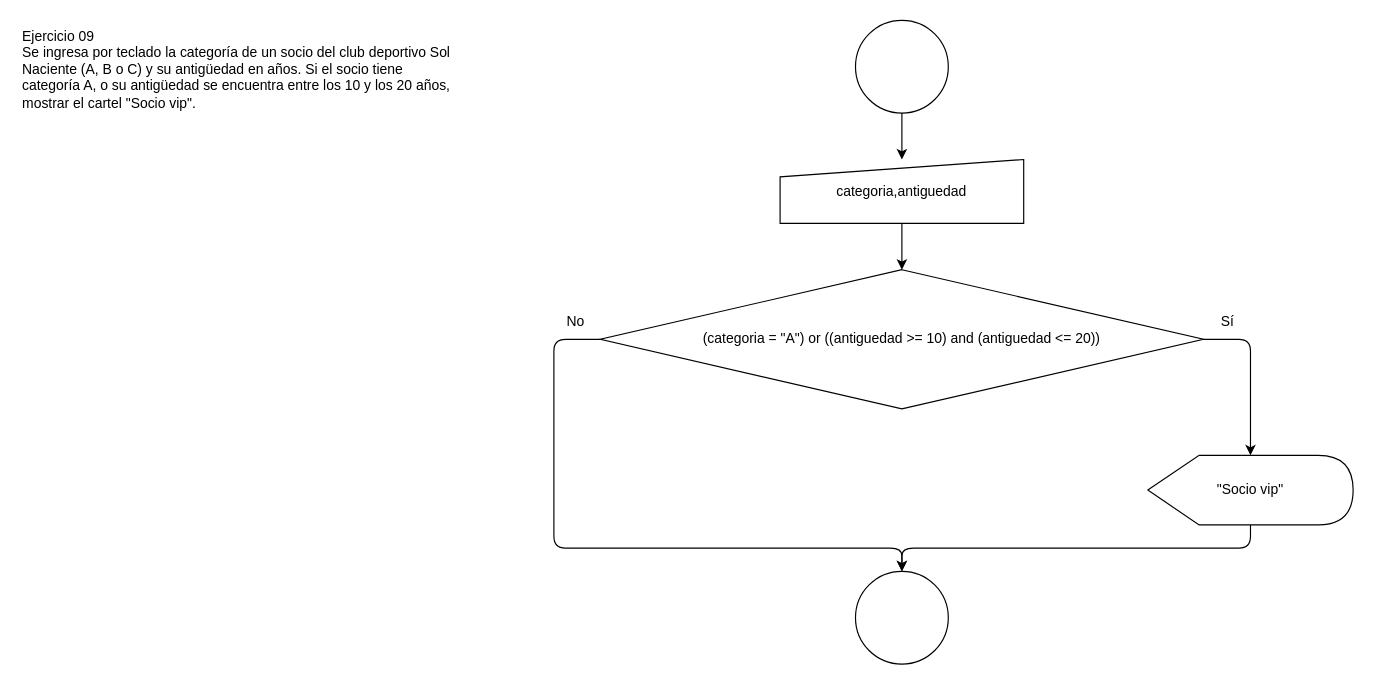
This 1373x684 diagram has some shape labels left out. Each missing label, with the centre of its shape:
Fin: the point at 901,617
Inicio: the point at 901,66
